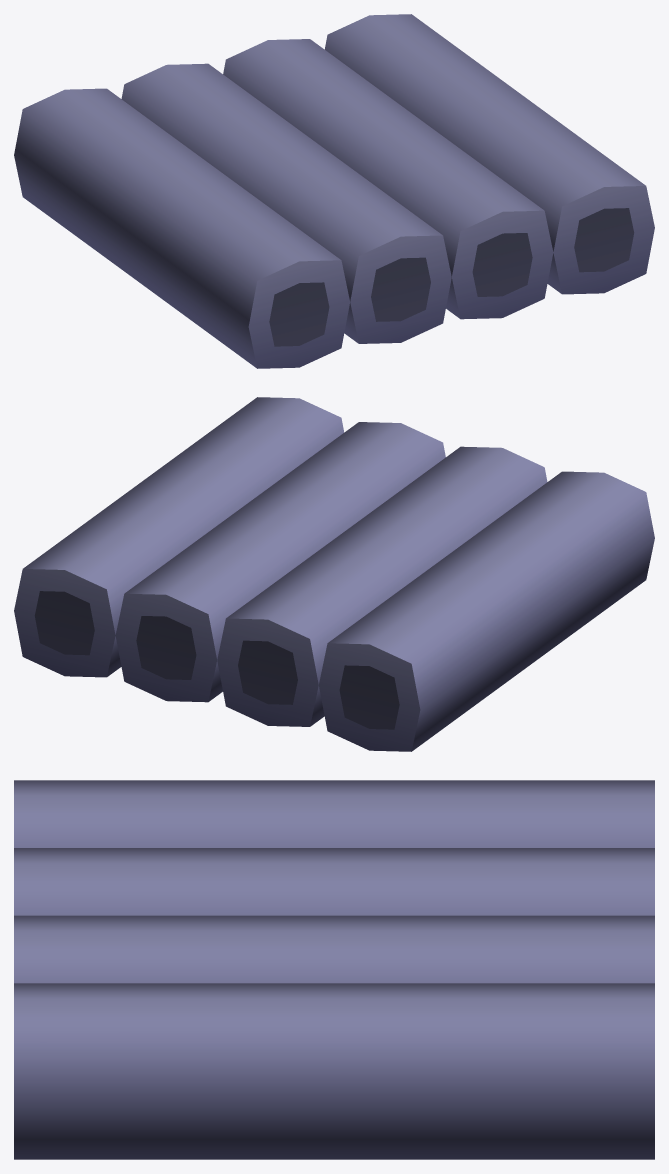
File: kenney-factory-conveyor-bars.glb
3 views of the same model, one above another, from view 1: azimuth 30°, elevation 25°; view 2: azimuth 150°, elevation 25°; view 3: azimuth 270°, elevation 25° (orthographic). The views are drawn at different scales.
Parts seen in each view (by area): view 1: conveyor-bars; view 2: conveyor-bars; view 3: conveyor-bars.
Boxes of the visible parts, x1,y1,x2,y2 form: conveyor-bars: (14, 14, 654, 368); conveyor-bars: (14, 397, 654, 751); conveyor-bars: (14, 780, 654, 1159).
Size of the model in its own units: 1 by 0.25 by 1.
Materials: 1 (1 with a texture image).
